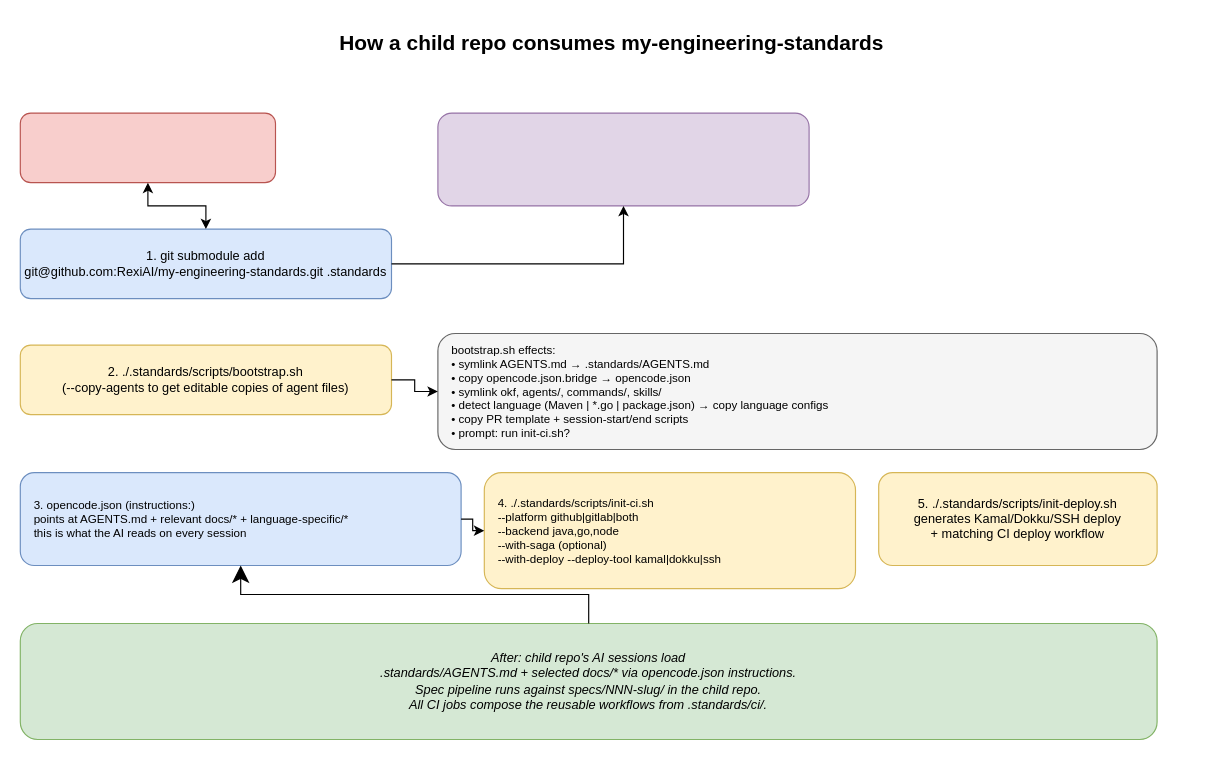
Some shapes in this 1224 by 760 pixel diagram are drawn without their labels. Each missing label, with the box of its shape:
.standards/ (git submodule pointer) real files = this repo's master @ pinned SHA: (437, 112, 809, 206)
Child repo (your application): (19, 112, 276, 183)
